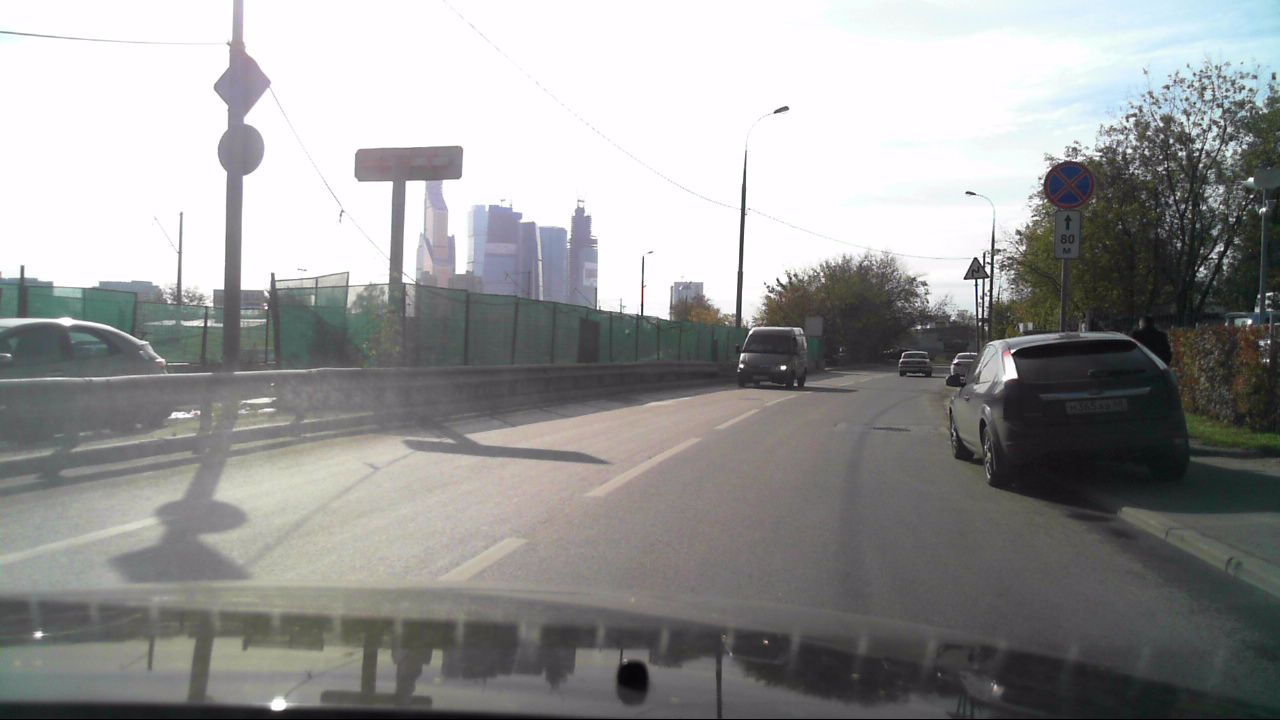No Parking: (1042, 157, 1101, 210)
